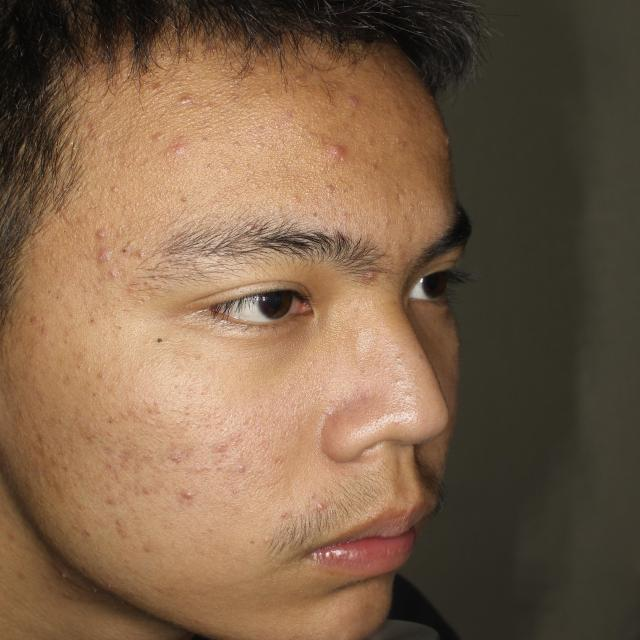acne: (78, 219, 131, 248), (316, 139, 351, 164), (112, 513, 138, 546), (341, 89, 371, 117), (205, 431, 237, 456), (174, 486, 210, 508), (92, 251, 120, 274), (163, 136, 180, 168), (365, 261, 381, 286)
